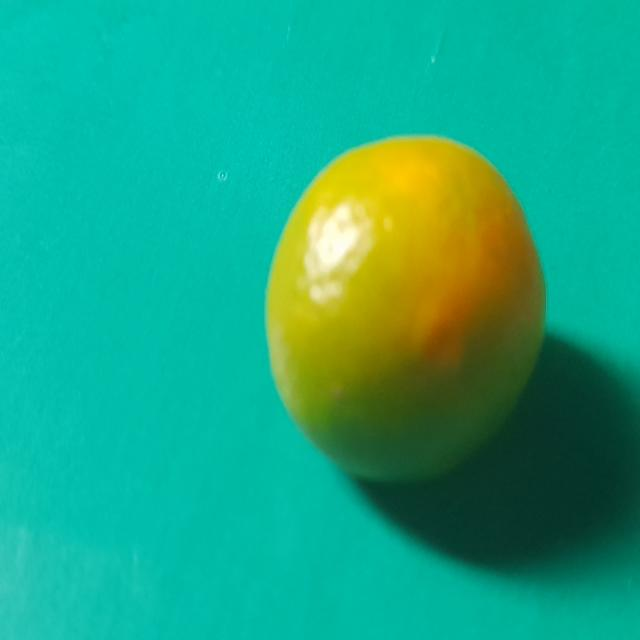greening: (260, 131, 542, 497)
